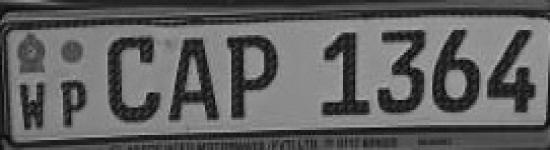1: (308, 24, 374, 124)
3: (376, 20, 430, 118)
4: (486, 24, 542, 116)
6: (430, 20, 484, 116)
A: (163, 34, 222, 126)
C: (102, 27, 162, 127)
P: (223, 32, 282, 125), (56, 72, 92, 132)
W: (12, 72, 51, 134)
